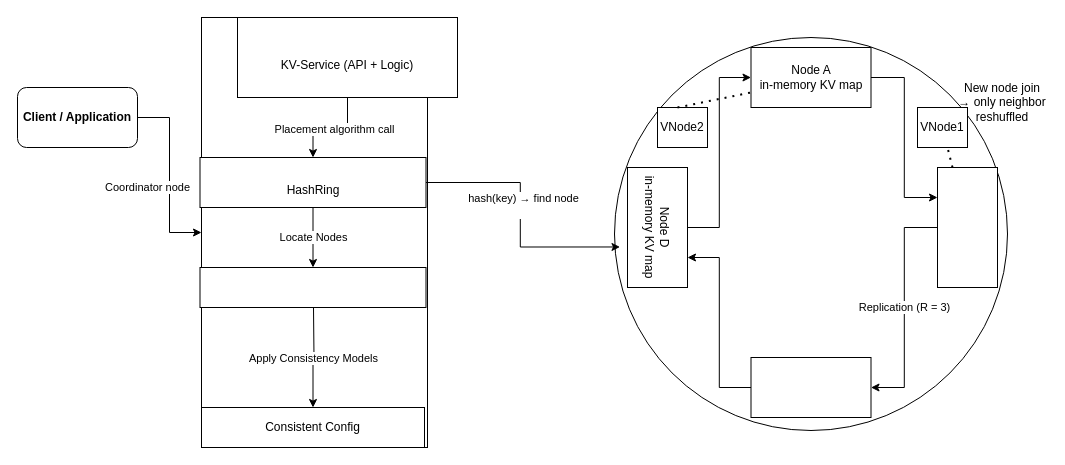
The diagram is 1065 pixels wide and 465 high, and some of its shapes have lost their labels. The box of each missing label's shape, as (x1, y1, x2, y2) in pixels:
Consistent Hash Ring (0 … n – 1): (614, 36, 1008, 430)
Node B in-memory KV map: (936, 166, 998, 288)
Node C in-memory KV map: (750, 356, 871, 418)
ReplicationManager: (199, 266, 426, 308)
